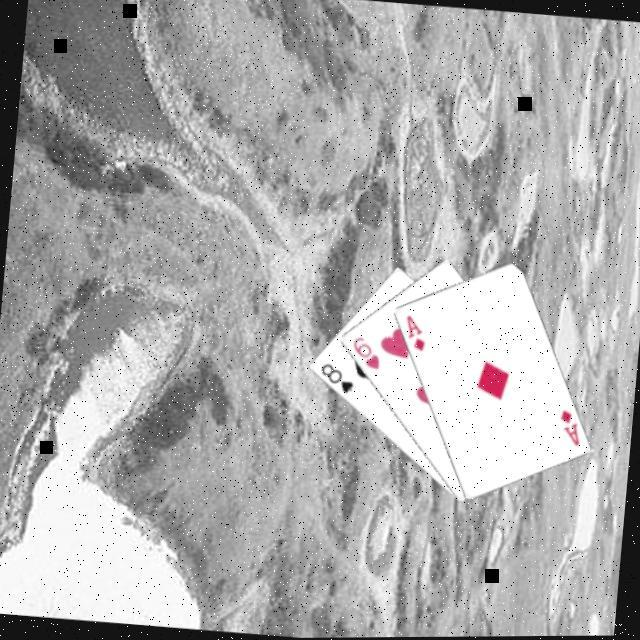6H: (348, 332, 385, 371)
8S: (316, 358, 359, 395)
AD: (554, 406, 585, 448), (401, 311, 430, 354)
